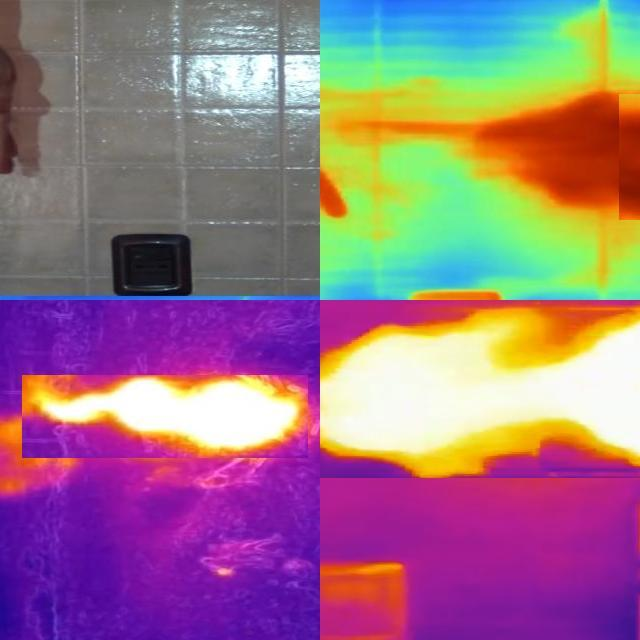fire: (321, 301, 640, 479), (22, 376, 308, 459)
